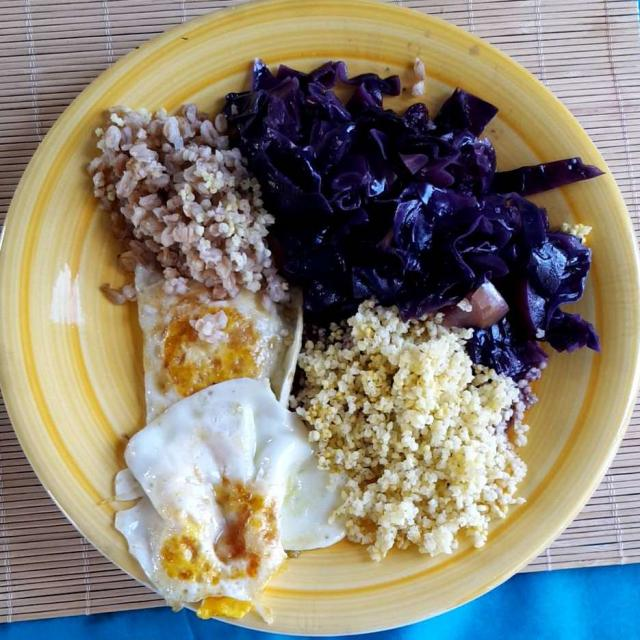egg: (102, 275, 342, 632)
red-cabbage: (230, 67, 612, 379)
